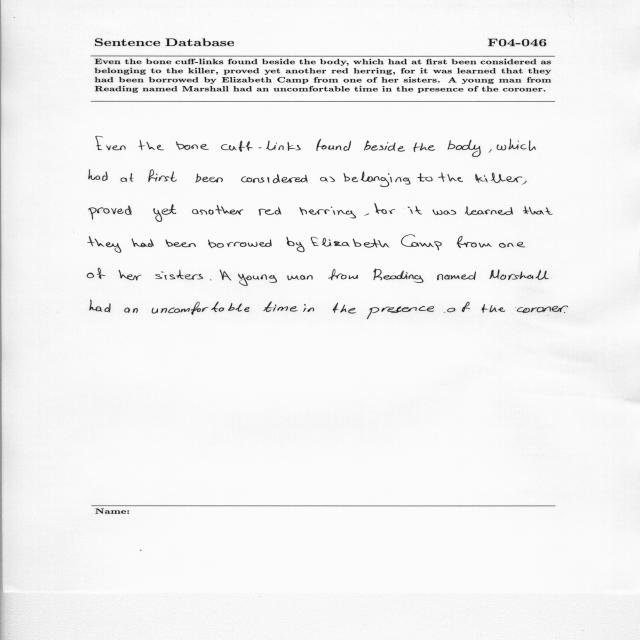word: (152, 302, 249, 315), (344, 171, 411, 187), (221, 140, 301, 152), (367, 306, 434, 319), (311, 237, 389, 248), (374, 268, 424, 283), (299, 207, 356, 219), (490, 269, 550, 280), (401, 235, 442, 250), (241, 174, 308, 183), (89, 206, 132, 220), (208, 239, 272, 248), (448, 140, 481, 157), (88, 236, 121, 253), (192, 205, 244, 215), (497, 138, 536, 151), (155, 270, 203, 280), (476, 173, 523, 183), (238, 274, 277, 286), (364, 141, 405, 152), (465, 206, 513, 215), (96, 137, 126, 151), (316, 139, 351, 151), (457, 236, 492, 248), (154, 204, 177, 222), (517, 305, 568, 313), (263, 301, 298, 312), (148, 169, 177, 182), (437, 272, 476, 281), (328, 269, 358, 280), (176, 141, 209, 150), (444, 302, 470, 313), (286, 237, 305, 252), (523, 206, 552, 215), (333, 303, 356, 314), (195, 174, 223, 183), (90, 300, 111, 312), (139, 140, 164, 150), (165, 240, 196, 248), (374, 203, 395, 214), (119, 270, 142, 280), (89, 169, 108, 181), (439, 173, 464, 182), (413, 143, 435, 153), (87, 268, 106, 279), (482, 304, 505, 313), (259, 207, 281, 216), (132, 239, 154, 248), (433, 210, 456, 216), (418, 173, 433, 182), (499, 242, 525, 247), (287, 275, 313, 280), (220, 270, 231, 281), (121, 173, 134, 182), (408, 206, 422, 214), (320, 176, 335, 182), (303, 304, 314, 312), (124, 308, 138, 313), (522, 181, 527, 185), (364, 213, 369, 216), (489, 149, 492, 153), (210, 280, 212, 281), (564, 312, 565, 313)
